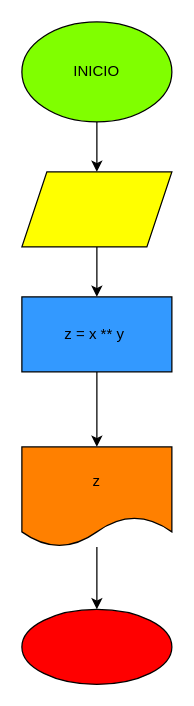
The diagram is 194 pixels wide and 706 high, and some of its shapes have lost their labels. Here are the shapes that lost their labels. From the top down, the centre of each, then its label:
At [96,209]: "x,y".
At [96,646]: "FIN".
